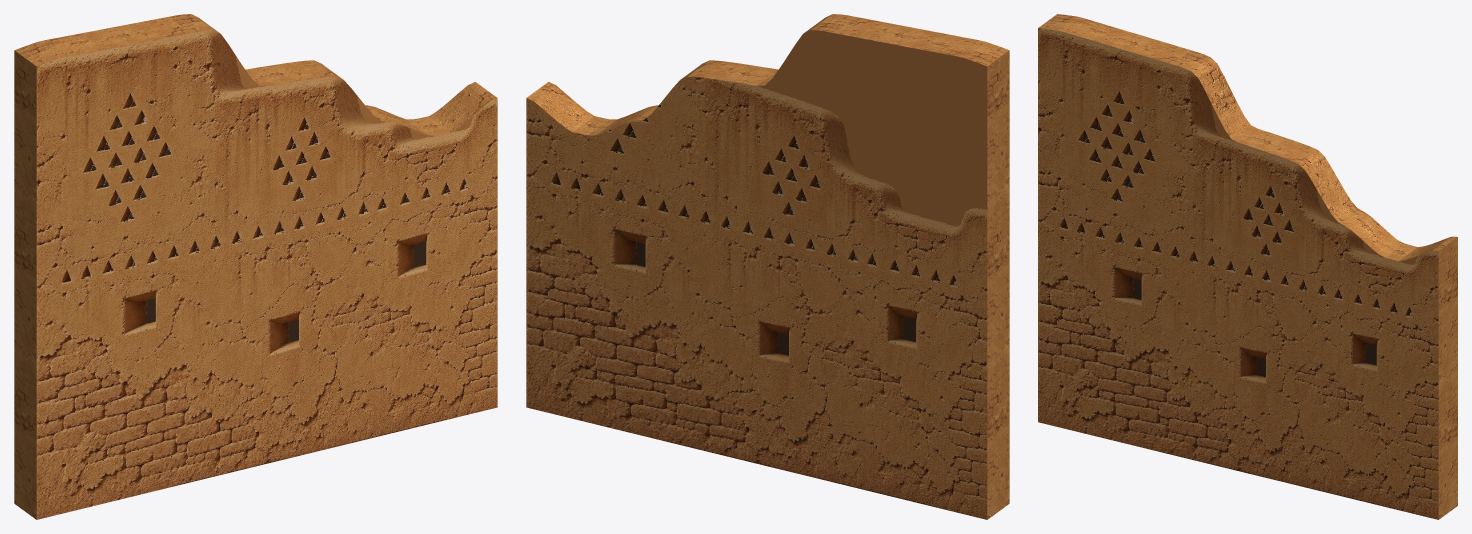
File: facade_steps.glb
3 views of the same model, side by side, from view 1: azimuth 30°, elevation 25°; view 2: azimuth 150°, elevation 25°; view 3: azimuth 330°, elevation 25° (orthographic). The views are drawn at different scales.
Parts seen in each view (by area): view 1: FacadeSteps; view 2: FacadeSteps; view 3: FacadeSteps.
Part boxes in pixels (x1=…): FacadeSteps: x1=14, y1=14, x2=497, y2=519; FacadeSteps: x1=526, y1=14, x2=1009, y2=519; FacadeSteps: x1=1038, y1=14, x2=1457, y2=519.
Size of the model in its own units: 6 by 5.67 by 0.5.
Materials: 2 (2 with a texture image).
